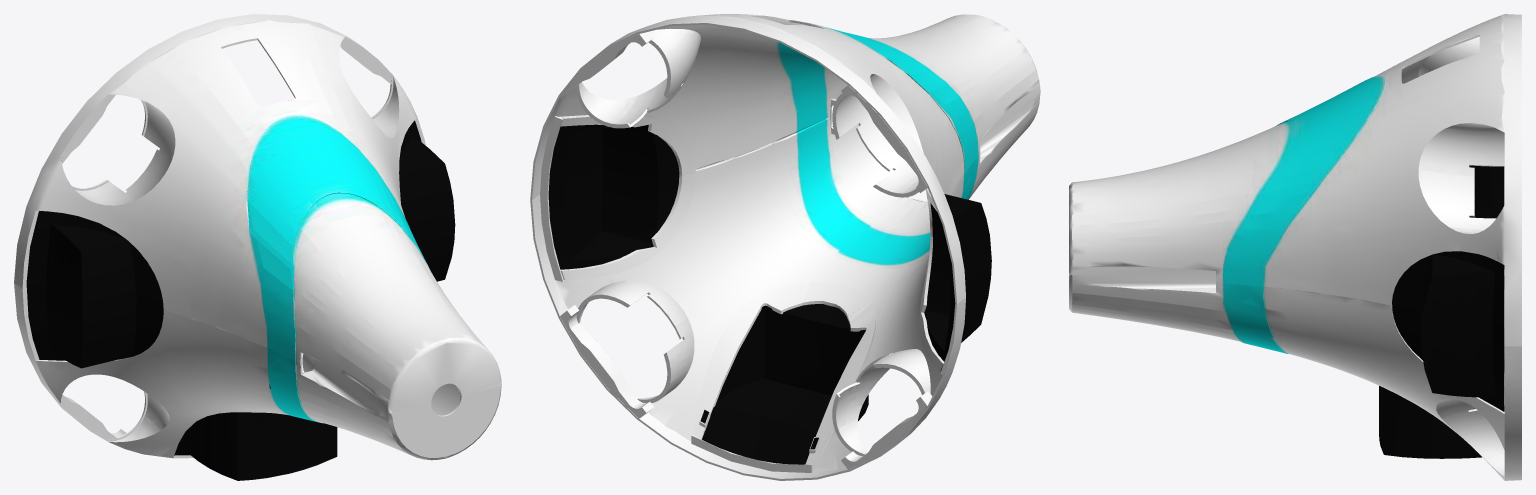
The model's file is bottomcovers.dae.
The picture shows the model from 3 angles, left to right: view 1: azimuth 30°, elevation 25°; view 2: azimuth 150°, elevation 25°; view 3: azimuth 270°, elevation 25°; orthographic projection. The views are drawn at different scales.
Parts seen in each view (by area): view 1: onderkantversiekrisreduced; view 2: onderkantversiekrisreduced; view 3: onderkantversiekrisreduced.
Part boxes in pixels (x1,y1,x2,y2): onderkantversiekrisreduced: (14,14,501,480); onderkantversiekrisreduced: (530,14,1040,480); onderkantversiekrisreduced: (1069,14,1521,480).
Bounding box in the file's own units: 1737 × 1737 × 1684.
1 material, 1 textured.
